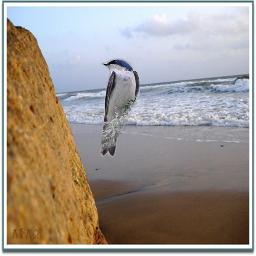Swallow: (98, 58, 140, 157)
